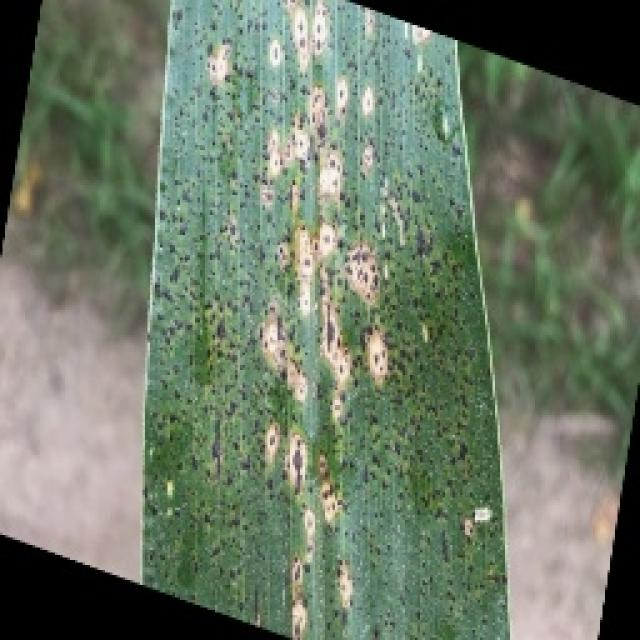Tar_Spot: (183, 24, 447, 549)
